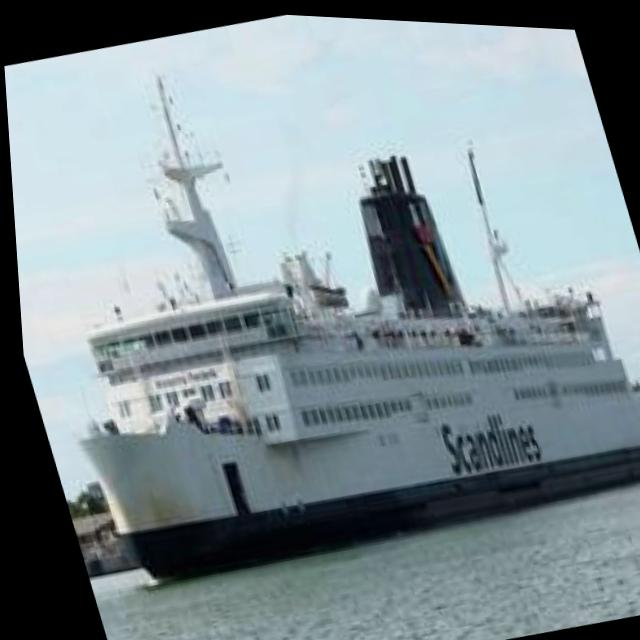ship2: (70, 80, 640, 585)
